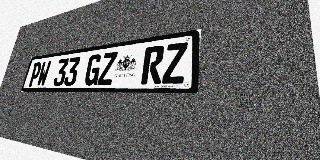3: (63, 56, 81, 86), (52, 58, 69, 86)
G: (83, 53, 103, 86)
P: (27, 62, 43, 87)
R: (141, 45, 165, 84)
W: (36, 60, 52, 87)
Z: (162, 42, 188, 84), (97, 51, 118, 85)
